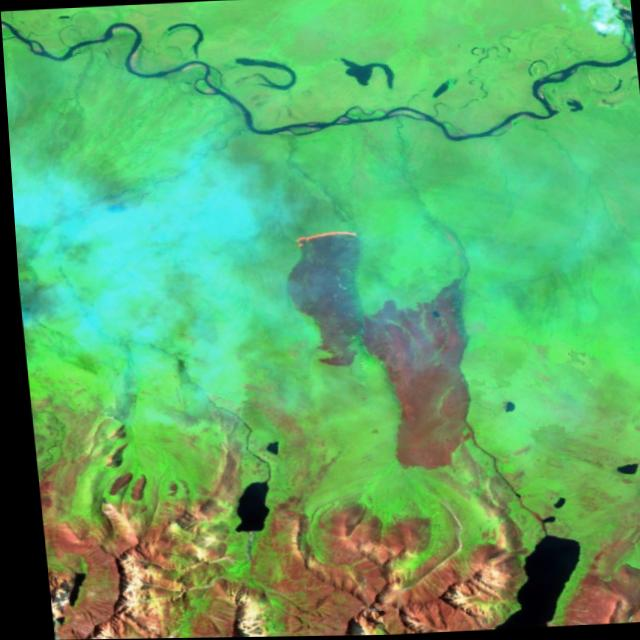fire: (271, 218, 361, 250)
